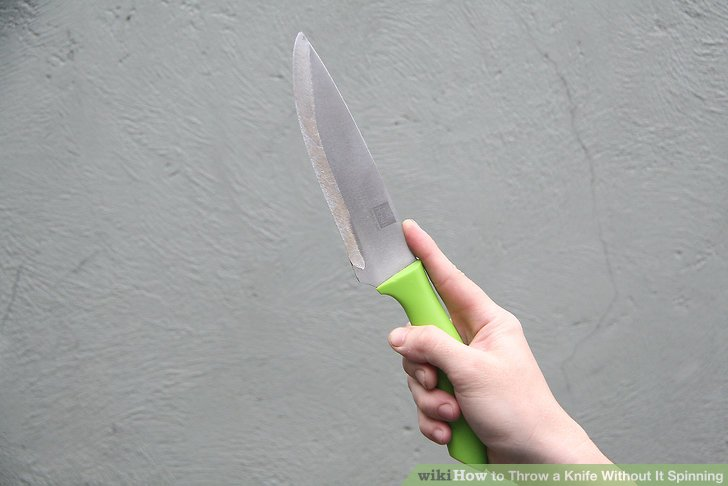knife: (274, 21, 478, 417)
